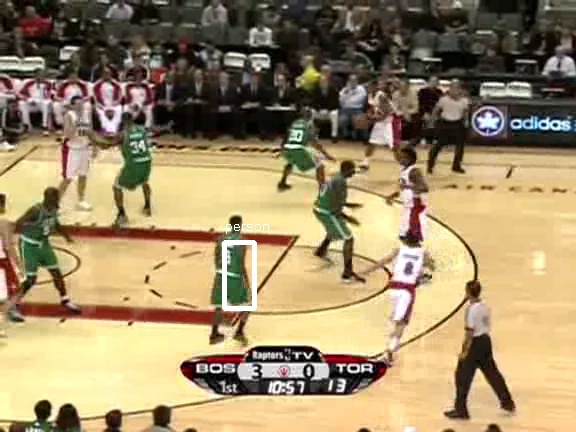person: (215, 230, 249, 311), (214, 230, 248, 311), (216, 230, 250, 311), (215, 229, 249, 310), (215, 231, 249, 312)
target_negative: (1, 2, 351, 222), (235, 206, 485, 344), (491, 239, 524, 376), (558, 89, 575, 198), (545, 247, 575, 267), (382, 61, 383, 224)
